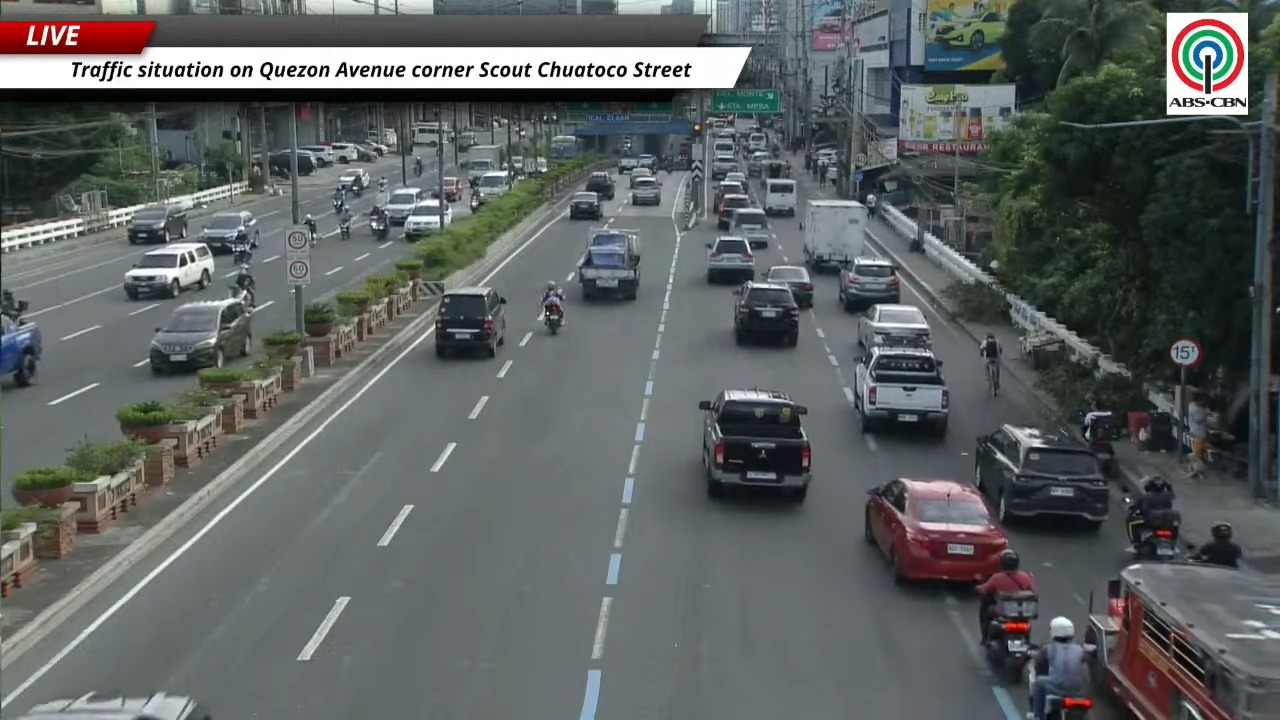bus: (412, 122, 450, 146), (550, 135, 583, 159)
car: (864, 478, 1008, 582), (973, 424, 1110, 528), (149, 298, 251, 372), (13, 693, 211, 719), (435, 286, 506, 357), (124, 243, 214, 299), (733, 281, 799, 346), (838, 257, 900, 311), (857, 304, 930, 348), (933, 12, 1005, 50), (199, 210, 259, 252), (127, 204, 187, 243), (706, 236, 755, 283), (763, 265, 813, 307), (403, 198, 451, 240), (730, 207, 770, 248), (384, 187, 425, 224), (474, 170, 511, 202), (717, 194, 750, 229), (569, 191, 602, 220), (630, 176, 661, 205), (584, 172, 615, 199), (299, 145, 335, 168), (715, 182, 748, 206), (338, 168, 371, 191), (711, 152, 736, 180), (268, 151, 293, 177), (356, 137, 389, 156), (329, 142, 358, 163), (442, 176, 465, 202), (747, 151, 769, 177), (351, 142, 379, 161), (629, 166, 652, 187), (722, 171, 747, 187), (638, 154, 655, 170)
motorcycle: (983, 591, 1037, 683), (1132, 509, 1180, 560), (1081, 413, 1119, 477), (1046, 694, 1092, 719), (0, 296, 28, 323), (228, 284, 255, 308), (544, 303, 562, 333), (369, 216, 388, 239), (233, 243, 252, 265), (908, 234, 923, 252), (307, 224, 318, 247), (469, 192, 481, 213), (339, 220, 350, 239), (349, 184, 363, 197), (332, 198, 344, 213), (414, 162, 423, 177)
truck: (698, 389, 811, 501), (851, 345, 948, 434), (803, 199, 868, 270), (578, 228, 640, 299), (0, 300, 42, 386), (466, 145, 505, 187), (618, 155, 640, 174)
